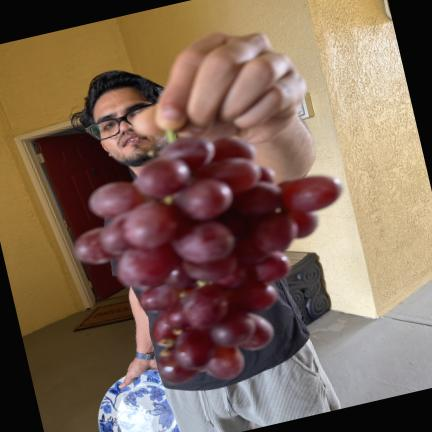grape_cluster: (75, 131, 342, 384)
